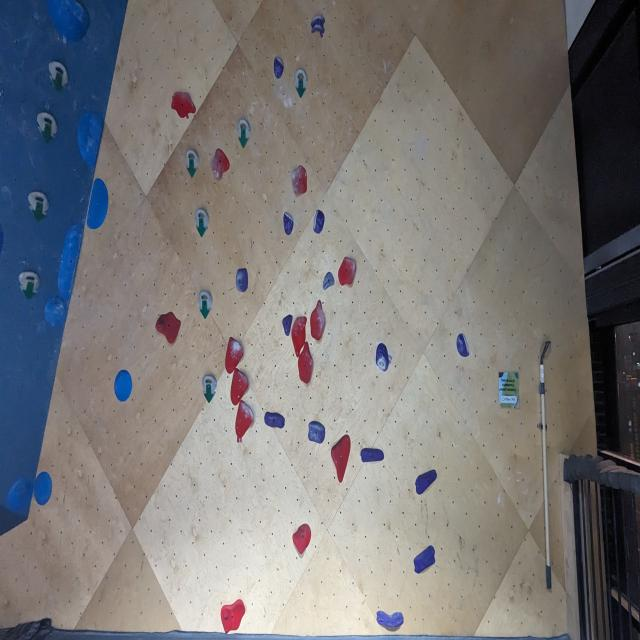hold: (57, 224, 84, 302), (46, 0, 89, 40), (77, 111, 104, 169), (86, 178, 109, 229), (5, 477, 34, 514), (331, 434, 351, 483), (221, 599, 245, 634), (155, 312, 181, 344), (235, 399, 254, 438), (230, 368, 249, 406), (27, 191, 50, 222), (48, 61, 69, 94), (225, 336, 243, 374), (44, 296, 66, 327), (171, 92, 196, 119), (291, 316, 307, 358), (37, 112, 58, 144), (33, 471, 52, 506), (19, 271, 40, 302), (298, 341, 313, 384), (413, 545, 435, 574), (211, 148, 230, 181), (310, 300, 325, 341), (292, 523, 311, 555), (114, 369, 132, 402), (415, 469, 437, 495), (338, 257, 356, 286), (291, 165, 307, 195), (237, 119, 252, 150), (195, 208, 210, 239), (185, 149, 200, 179), (198, 290, 213, 320), (202, 374, 217, 404), (376, 611, 404, 627), (294, 68, 308, 99), (308, 421, 325, 444), (264, 411, 285, 429), (376, 343, 389, 372), (360, 448, 384, 462), (456, 333, 470, 357), (235, 268, 248, 292), (313, 209, 325, 234), (311, 15, 325, 34), (283, 212, 294, 235), (282, 314, 293, 336), (274, 57, 284, 79), (323, 272, 335, 290)
